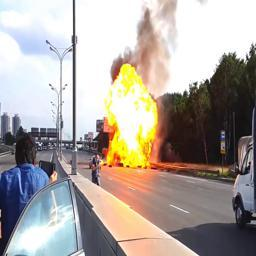fire: (105, 64, 158, 168)
